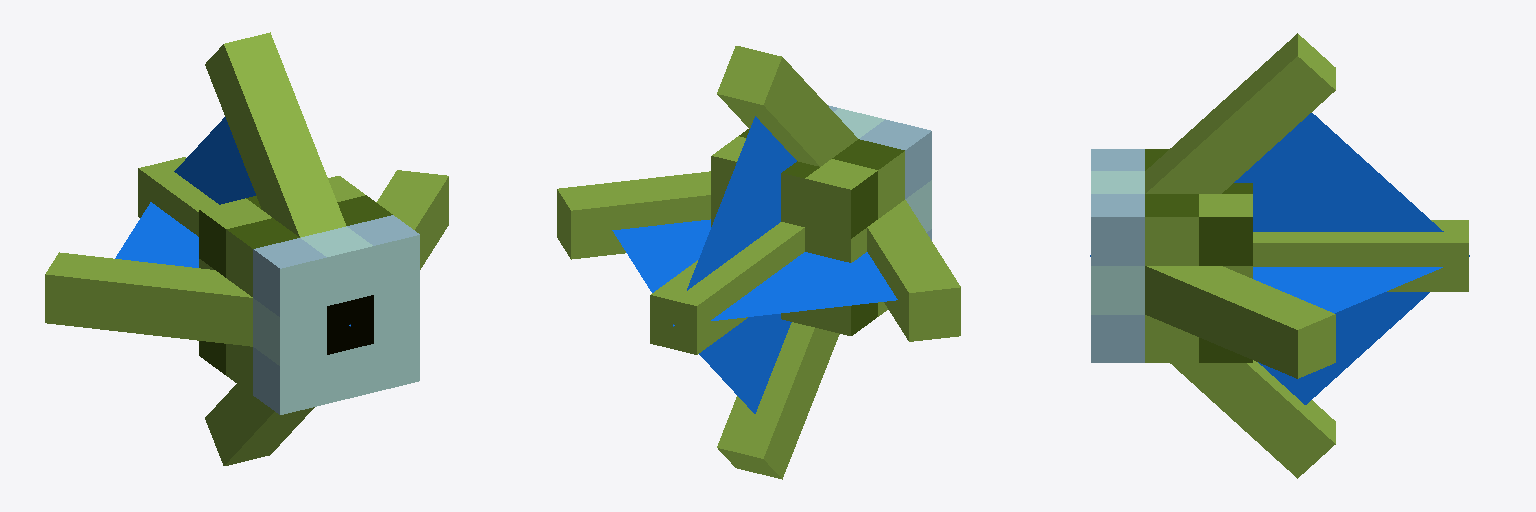
The picture shows the model from 3 angles: view 1: azimuth 30°, elevation 25°; view 2: azimuth 150°, elevation 25°; view 3: azimuth 270°, elevation 25°; orthographic projection.
Parts seen in each view (by area): view 1: cube; view 2: cube; view 3: cube.
Boxes of the visible parts, x1=… form: cube: x1=45, y1=32, x2=448, y2=465; cube: x1=557, y1=46, x2=960, y2=479; cube: x1=1090, y1=33, x2=1469, y2=478.
Size of the model in its own units: 0.5411 by 0.5411 by 0.4419.
Materials: 1 (1 with a texture image).